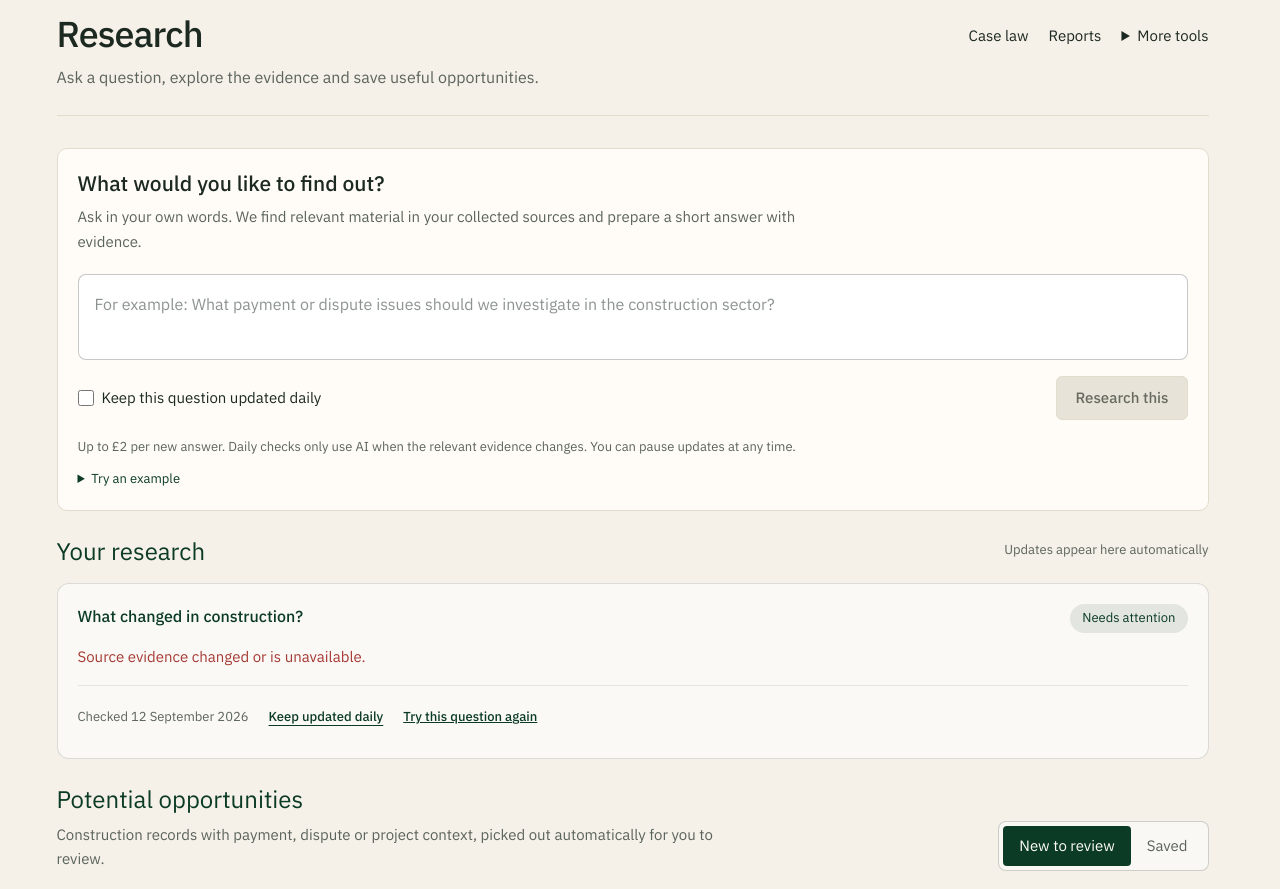
Test case: offers an updated answer when withdrawn evidence makes a completed answer unavailable
Check: the text "Needs attention" is shown, box x1=1070 y1=604 x2=1188 y2=633
Click the button "Try this question again". click: [470, 718]
box: x1=403 y1=698 x2=537 y2=738
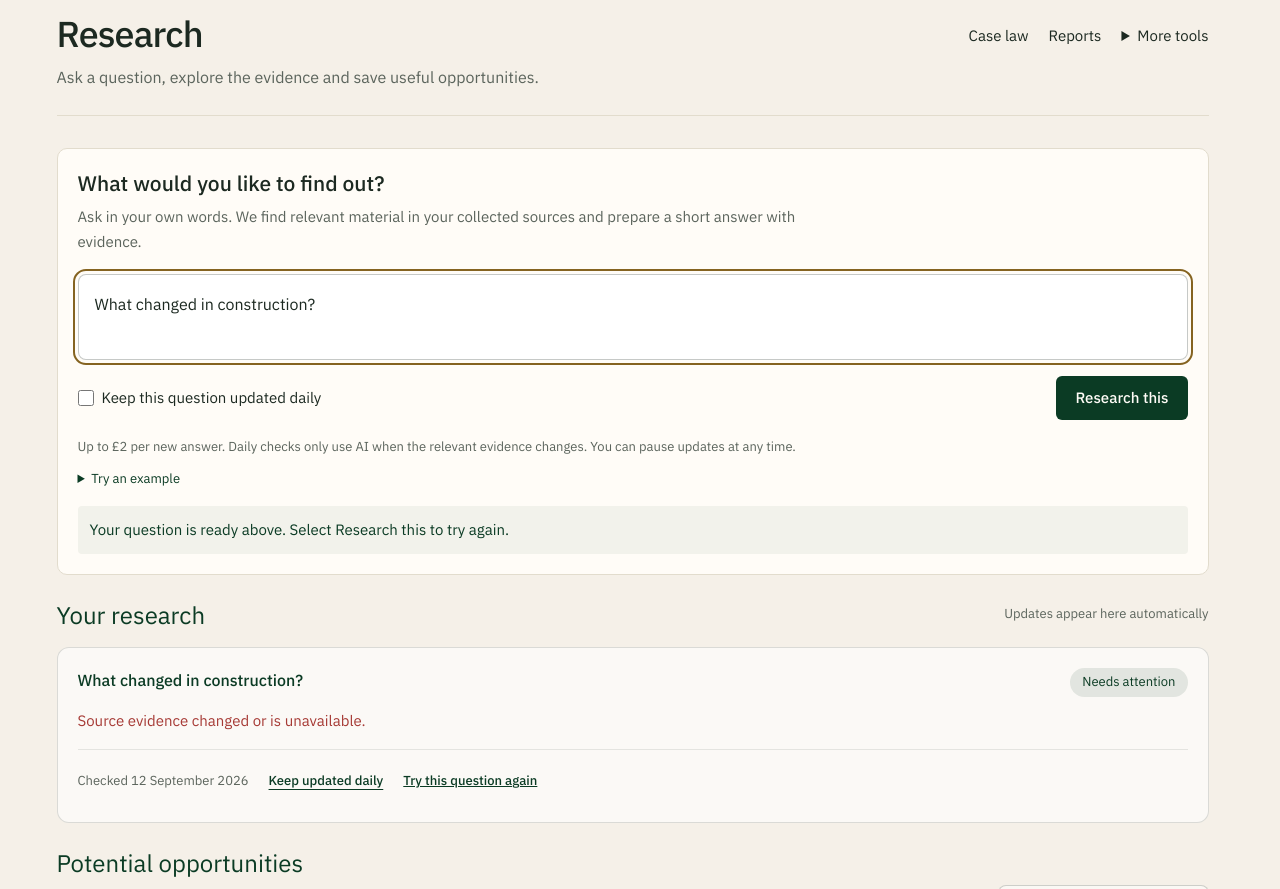
Check: the text box holds "What changed in construction?", box x1=78 y1=274 x2=1188 y2=360
